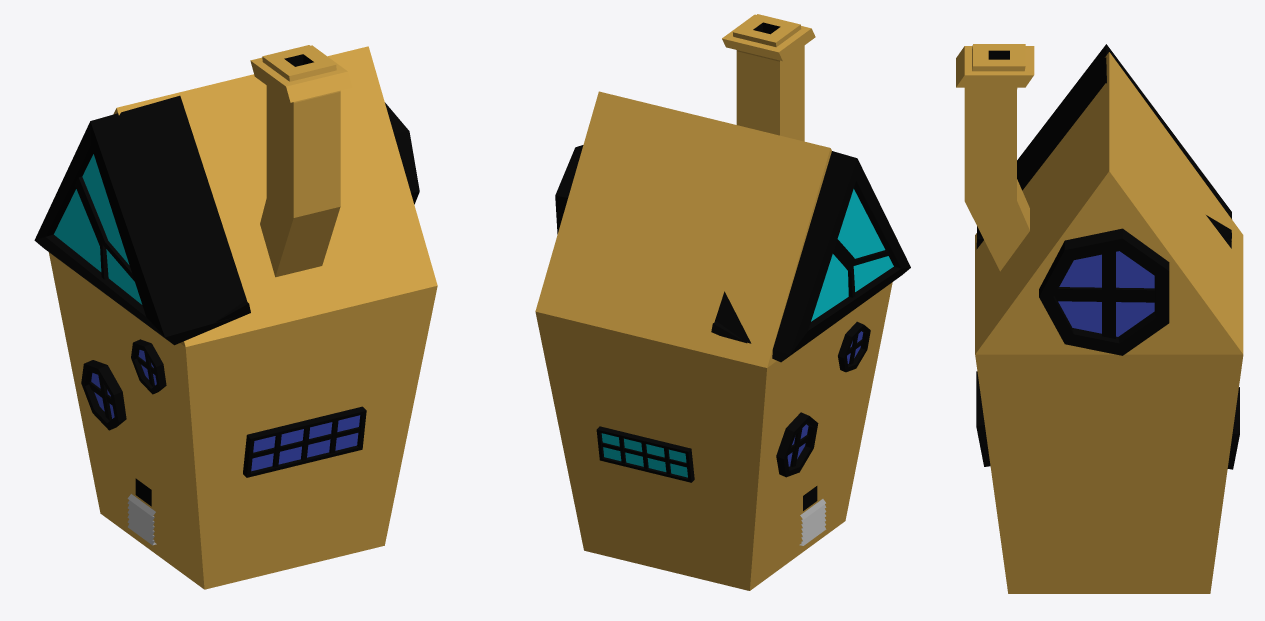
File: CasaChamineAmarelo.fbx
The picture shows the model from 3 angles, left to right: view 1: azimuth 30°, elevation 25°; view 2: azimuth 150°, elevation 25°; view 3: azimuth 270°, elevation 25°; orthographic projection. The views are drawn at different scales.
Visible parts, largest first — view 1: CasaChamineAmarelo; view 2: CasaChamineAmarelo; view 3: CasaChamineAmarelo.
Part boxes in pixels (x1,y1,x2,y2): CasaChamineAmarelo: (34,45,437,589); CasaChamineAmarelo: (535,14,910,590); CasaChamineAmarelo: (956,44,1243,593).
Bounding box in the file's own units: 823 × 1287 × 695.
